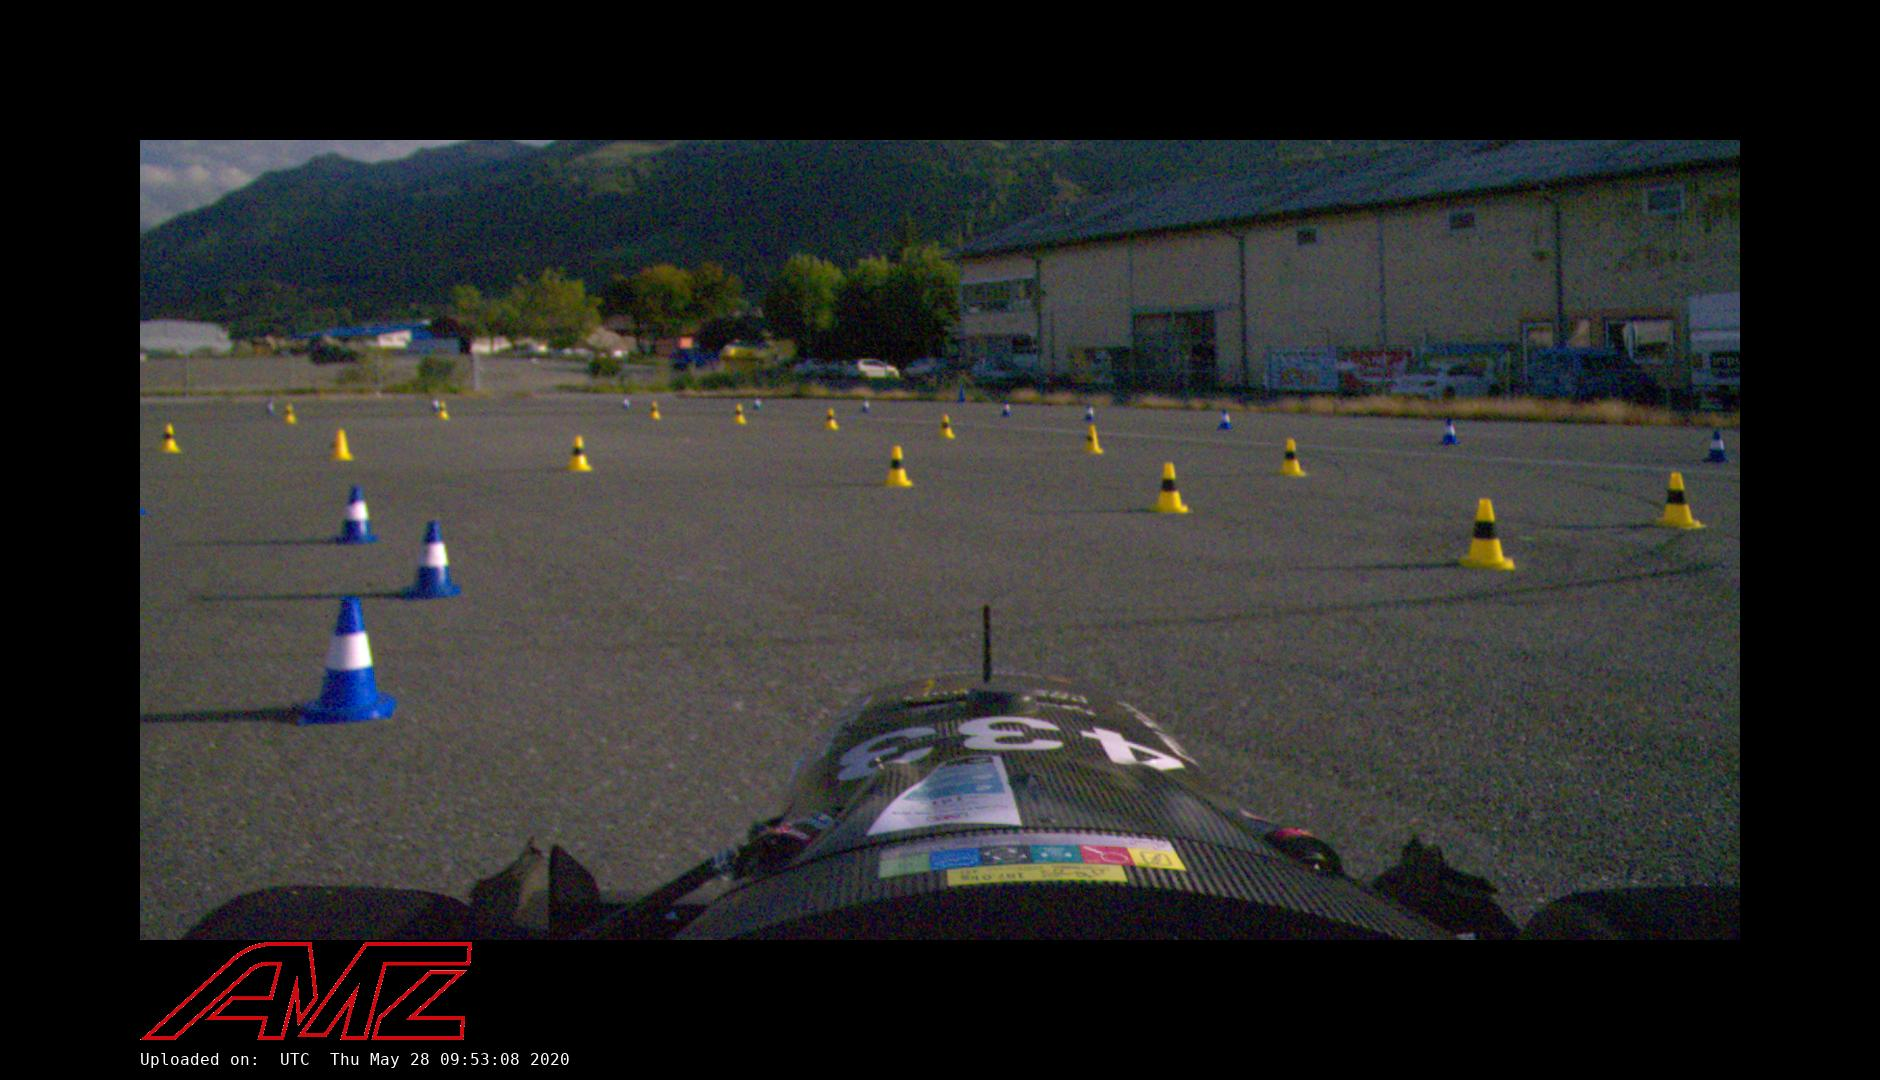blue_cone: (293, 599, 395, 725), (400, 522, 461, 599), (331, 484, 378, 545), (1704, 431, 1732, 462), (1438, 419, 1459, 444), (1218, 410, 1233, 429), (1001, 400, 1012, 417), (1085, 404, 1095, 420), (266, 398, 275, 413), (433, 397, 442, 411), (622, 397, 631, 410), (863, 399, 870, 413), (753, 397, 761, 410)
yellow_cone: (1460, 497, 1515, 570), (1654, 473, 1707, 531), (1150, 462, 1189, 514), (1278, 439, 1307, 479), (884, 446, 913, 486), (566, 435, 593, 472), (328, 429, 352, 461), (158, 424, 182, 453), (1082, 426, 1104, 453), (939, 415, 955, 439), (822, 408, 839, 430), (281, 404, 298, 424), (733, 406, 746, 424), (649, 400, 661, 419), (438, 402, 449, 419)
